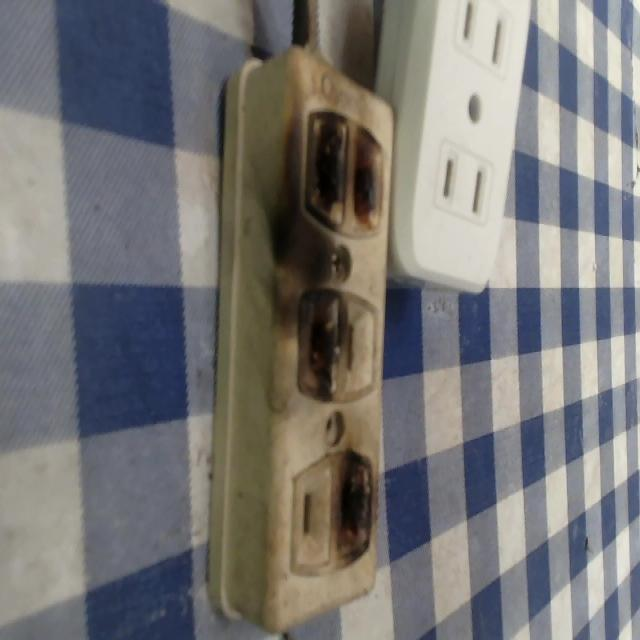-: (295, 99, 390, 245), (289, 284, 347, 400), (329, 448, 372, 565)
